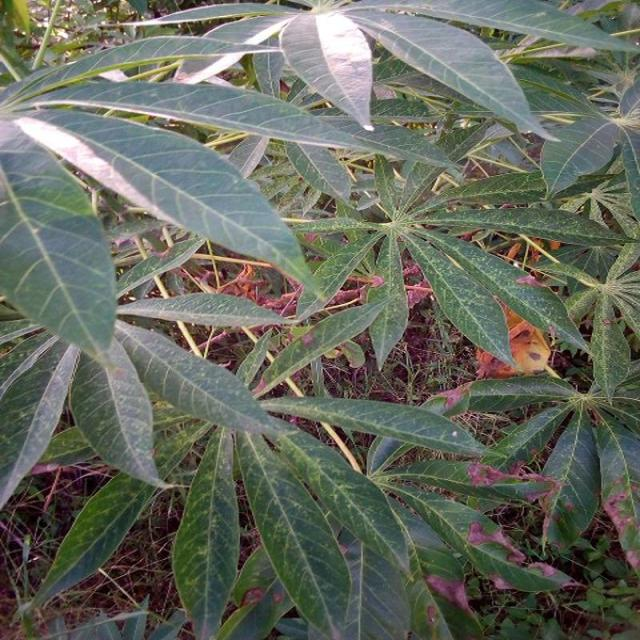cassava leaf: (0, 1, 638, 638), (12, 106, 322, 298), (0, 115, 118, 364)
